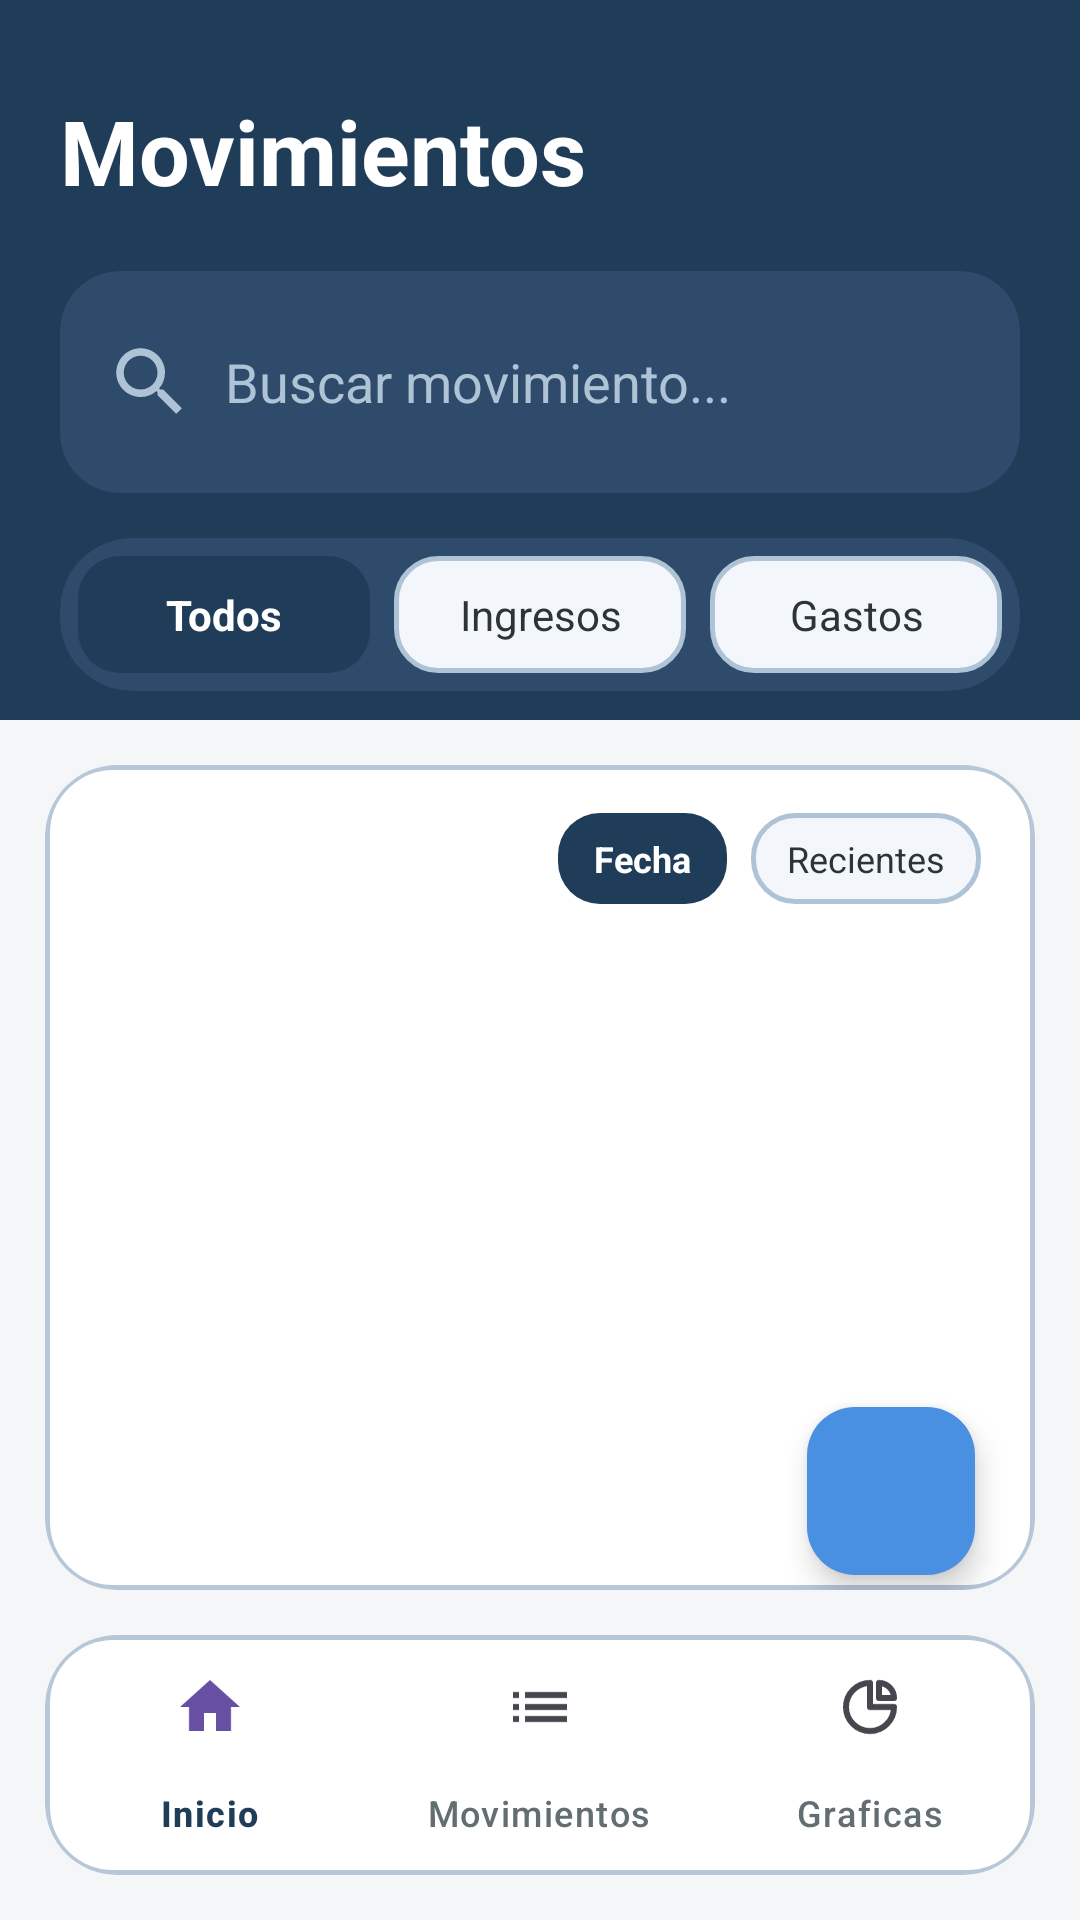

Screen size 1080*1920. Icon name, then its box in pixels as (x1, y1, x2, y2):
lupa: (116, 348, 182, 414)
